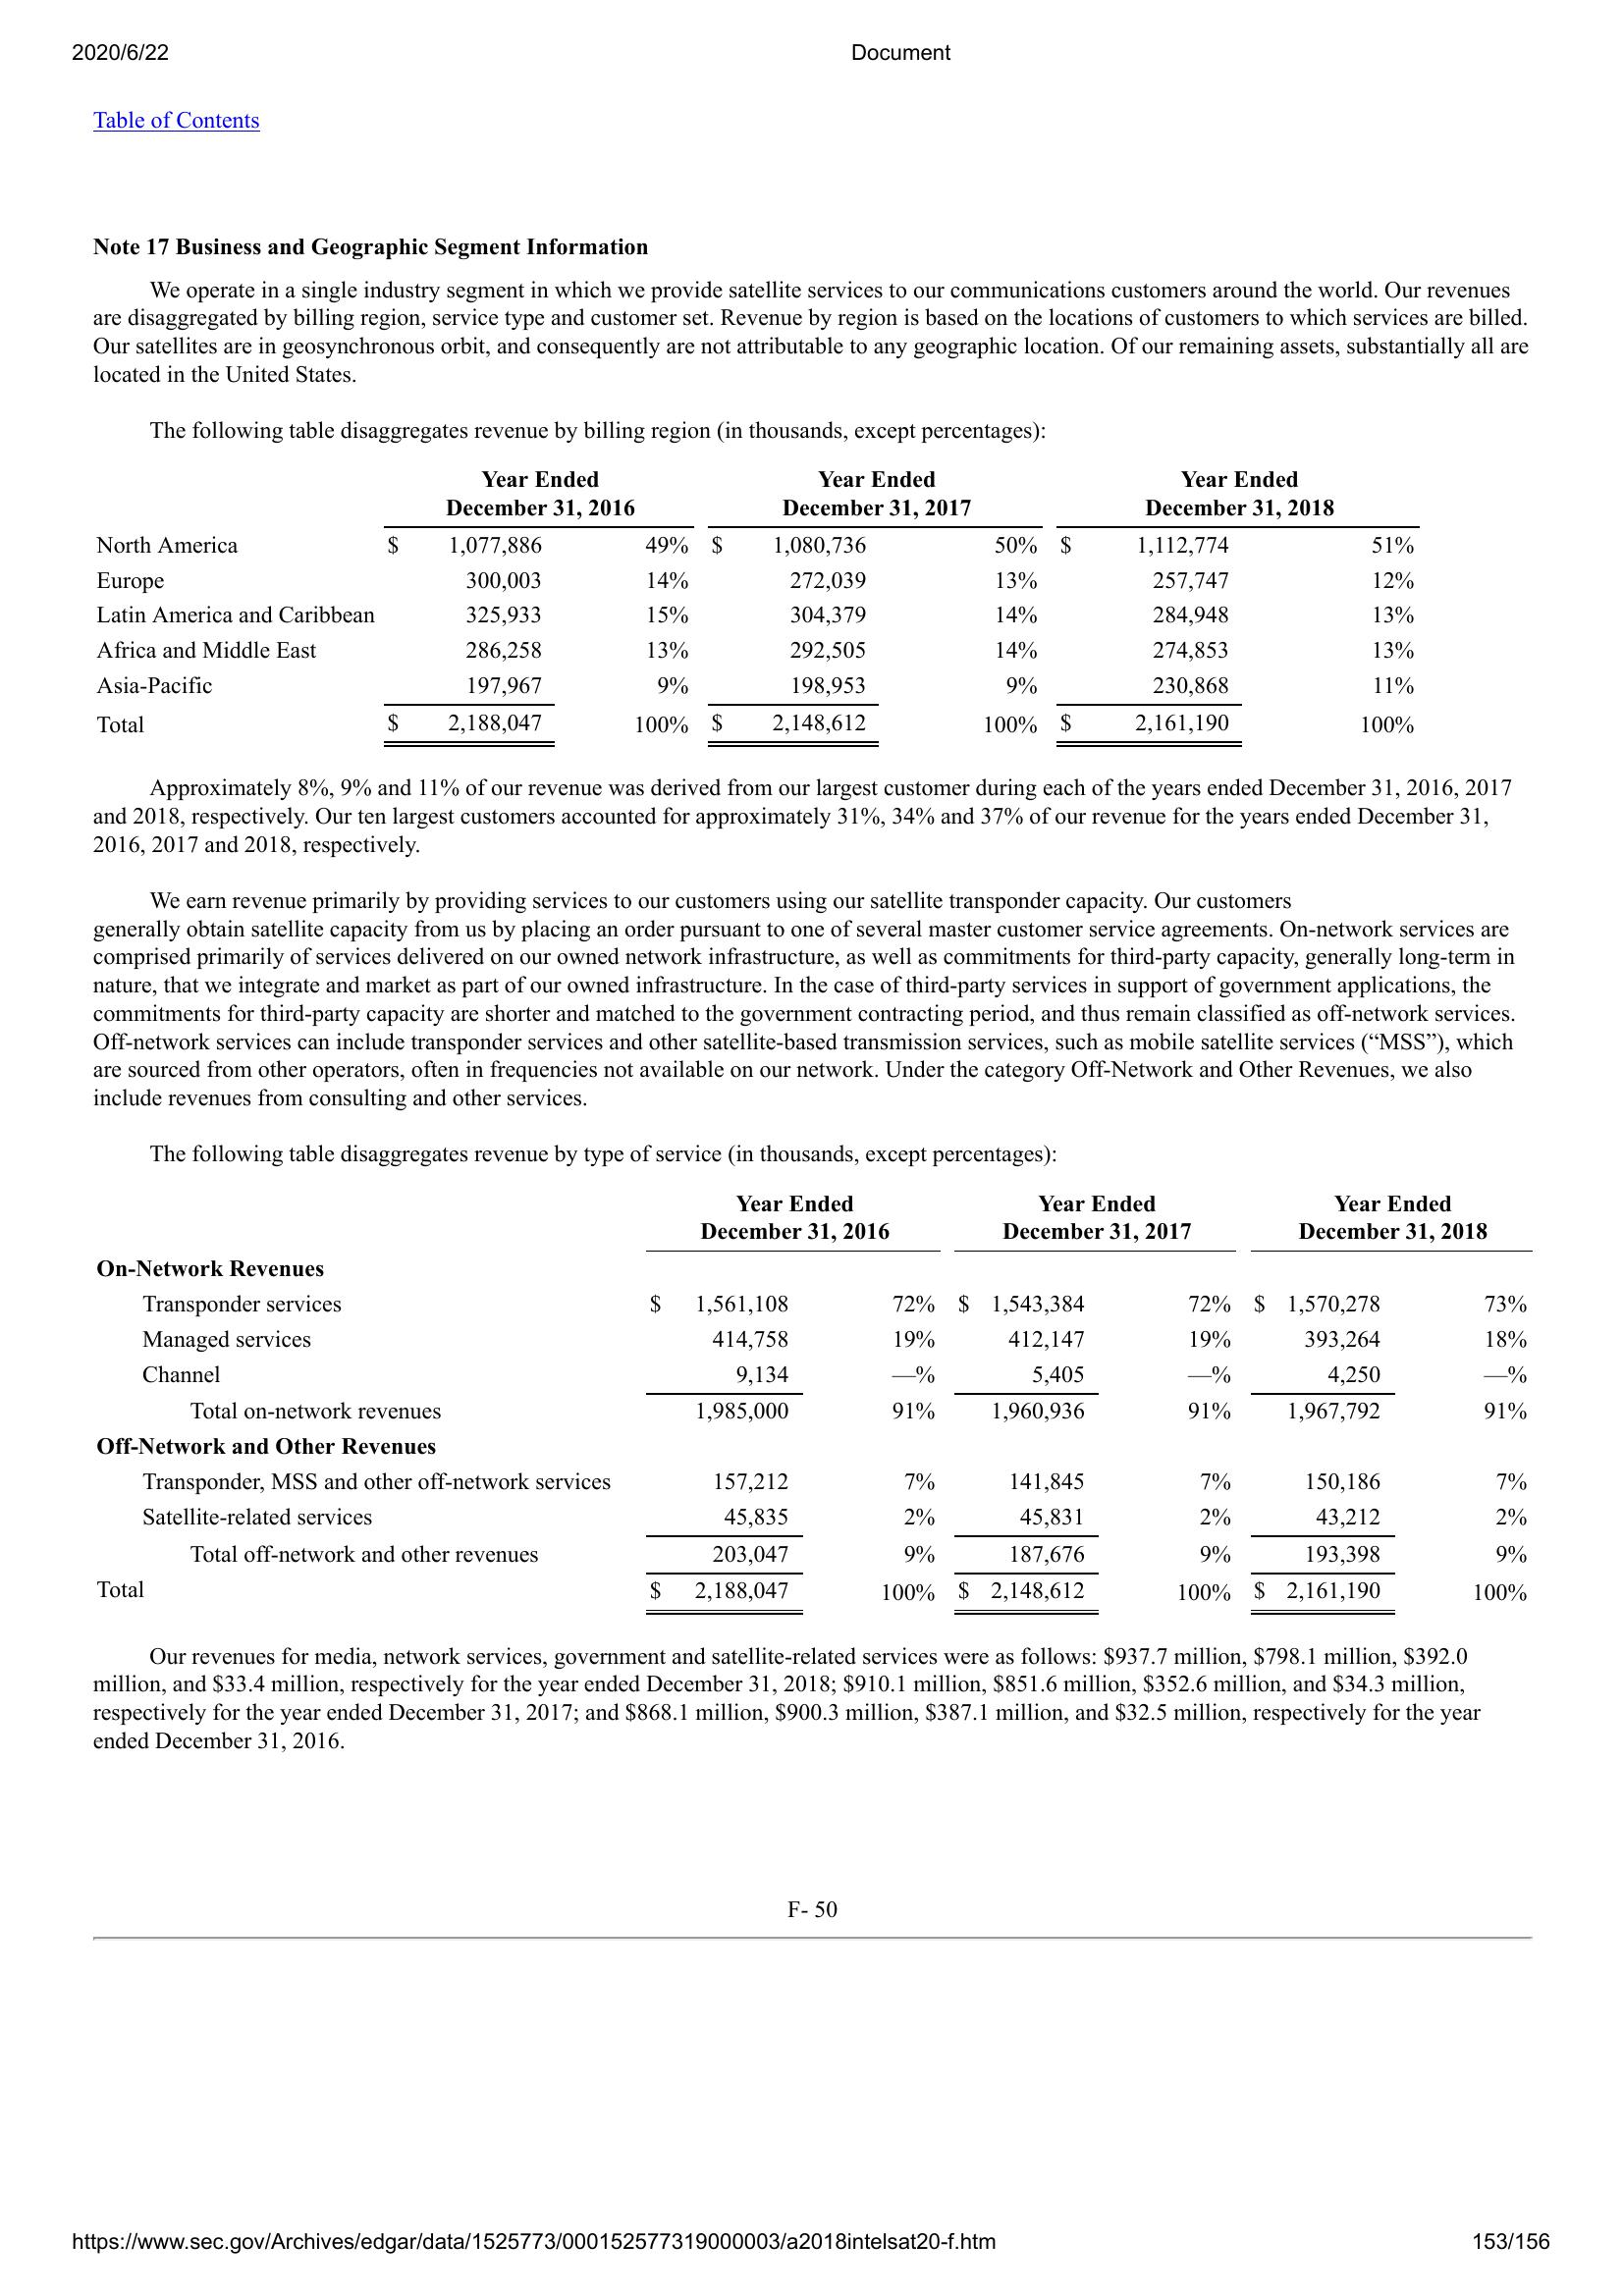table: (88, 1183, 1535, 1627), (84, 462, 1433, 748)
